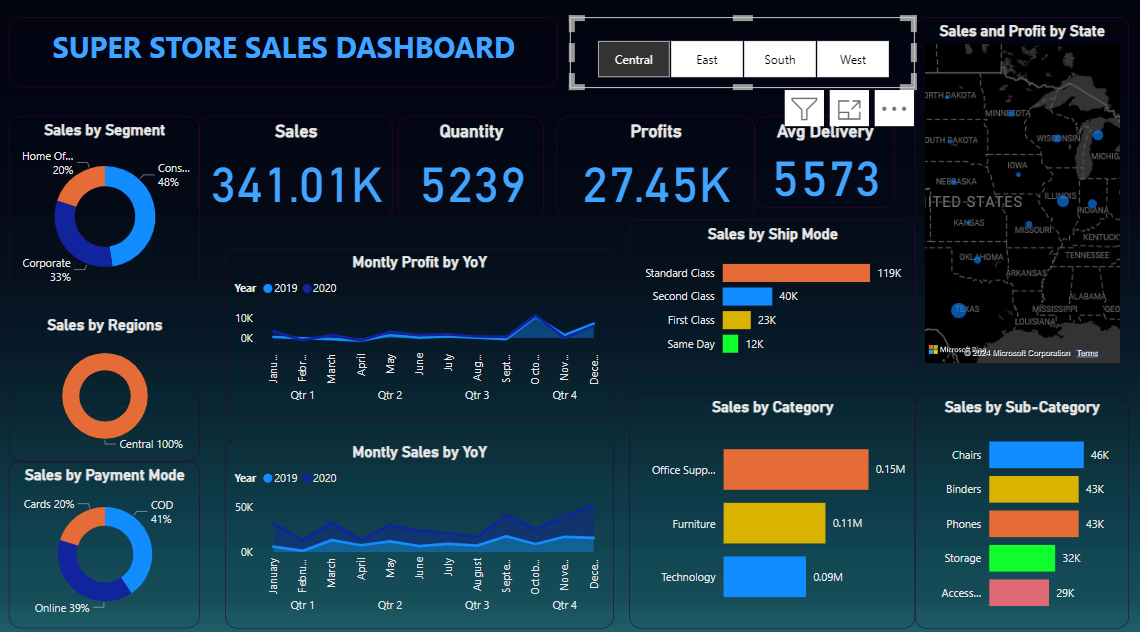

The page's visual inventory and layout, read from the dashboard file:
{"tool":"powerbi","page":{"name":"Page 1","canvas":[1280,720],"ordinal":0},"visuals":[{"type":"clusteredBarChart","title":"Sales by Category","fields":{"Category":["SuperStore_Sales_Dataset.Category"],"Y":["Sum(SuperStore_Sales_Dataset.Sales)"]},"box":[706,444,318,262],"z":0},{"type":"clusteredBarChart","title":"Sales by Sub-Category","fields":{"Category":["SuperStore_Sales_Dataset.Sub-Category"],"Y":["Sum(SuperStore_Sales_Dataset.Sales)"]},"box":[1024,444,238,262],"z":1000},{"type":"clusteredBarChart","title":"Sales by Ship Mode","fields":{"Category":["SuperStore_Sales_Dataset.Ship Mode"],"Y":["Sum(SuperStore_Sales_Dataset.Sales)"]},"box":[706,252,318,168],"z":2000},{"type":"stackedAreaChart","title":"Montly Sales by YoY","fields":{"Y":["Sum(SuperStore_Sales_Dataset.Sales)"],"Series":["SuperStore_Sales_Dataset.Order Date.Variation.Date Hierarchy.Year"],"Category":["SuperStore_Sales_Dataset.Order Date.Variation.Date Hierarchy.Quarter","SuperStore_Sales_Dataset.Order Date.Variation.Date Hierarchy.Month","SuperStore_Sales_Dataset.Order Date.Variation.Date Hierarchy.Day"]},"box":[256,494,432,212],"z":3000},{"type":"stackedAreaChart","title":"Montly Profit by YoY","fields":{"Series":["SuperStore_Sales_Dataset.Order Date.Variation.Date Hierarchy.Year"],"Category":["SuperStore_Sales_Dataset.Order Date.Variation.Date Hierarchy.Quarter","SuperStore_Sales_Dataset.Order Date.Variation.Date Hierarchy.Month","SuperStore_Sales_Dataset.Order Date.Variation.Date Hierarchy.Day"],"Y":["Sum(SuperStore_Sales_Dataset.Profit)"]},"box":[256,282,432,190],"z":4000},{"type":"map","title":"Sales and  Profit by State","fields":{"Category":["SuperStore_Sales_Dataset.State"],"Size":["Sum(SuperStore_Sales_Dataset.Sales)"]},"box":[1024,26,238,394],"z":5000},{"type":"donutChart","title":"Sales by Segment","fields":{"Category":["SuperStore_Sales_Dataset.Segment"],"Y":["Sum(SuperStore_Sales_Dataset.Sales)"]},"box":[16,136,212,202],"z":6000},{"type":"donutChart","title":"Sales by Payment Mode","fields":{"Category":["SuperStore_Sales_Dataset.Payment Mode"],"Y":["Sum(SuperStore_Sales_Dataset.Sales)"]},"box":[16,520,212,186],"z":7000},{"type":"donutChart","title":"Sales by Regions","fields":{"Y":["Sum(SuperStore_Sales_Dataset.Sales)"],"Category":["SuperStore_Sales_Dataset.Region"]},"box":[16,352,212,168],"z":8000},{"type":"slicer","fields":{"Values":["SuperStore_Sales_Dataset.Region"]},"box":[640,26,384,78],"z":9000},{"type":"textbox","box":[16,26,610,78],"z":10000},{"type":"card","title":"Sales","fields":{"Values":["Sum(SuperStore_Sales_Dataset.Sales)"]},"box":[228,136,216,116],"z":11000},{"type":"card","title":"Quantity","fields":{"Values":["Sum(SuperStore_Sales_Dataset.Quantity)"]},"box":[450,136,162,116],"z":12000},{"type":"card","title":"Profits","fields":{"Values":["Sum(SuperStore_Sales_Dataset.Profit)"]},"box":[626,136,220,116],"z":13000},{"type":"card","title":"Avg Delivery","fields":{"Values":["Sum(SuperStore_Sales_Dataset.AvgDelivery)"]},"box":[846,136,156,102],"z":14000}]}

Visuals, with their boxes in screenshot pixels (x1, y1, x2, y2), scaled from the page's 1280x720 canvas onto the 1140x632 screenshot:
"Sales by Category" clusteredBarChart: (x1=629, y1=390, x2=912, y2=620)
"Sales by Sub-Category" clusteredBarChart: (x1=912, y1=390, x2=1124, y2=620)
"Sales by Ship Mode" clusteredBarChart: (x1=629, y1=221, x2=912, y2=369)
"Montly Sales by YoY" stackedAreaChart: (x1=228, y1=434, x2=613, y2=620)
"Montly Profit by YoY" stackedAreaChart: (x1=228, y1=248, x2=613, y2=414)
"Sales and  Profit by State" map: (x1=912, y1=23, x2=1124, y2=369)
"Sales by Segment" donutChart: (x1=14, y1=119, x2=203, y2=297)
"Sales by Payment Mode" donutChart: (x1=14, y1=456, x2=203, y2=620)
"Sales by Regions" donutChart: (x1=14, y1=309, x2=203, y2=456)
slicer - SuperStore_Sales_Dataset.Region: (x1=570, y1=23, x2=912, y2=91)
textbox: (x1=14, y1=23, x2=558, y2=91)
"Sales" card: (x1=203, y1=119, x2=395, y2=221)
"Quantity" card: (x1=401, y1=119, x2=545, y2=221)
"Profits" card: (x1=558, y1=119, x2=753, y2=221)
"Avg Delivery" card: (x1=753, y1=119, x2=892, y2=209)
